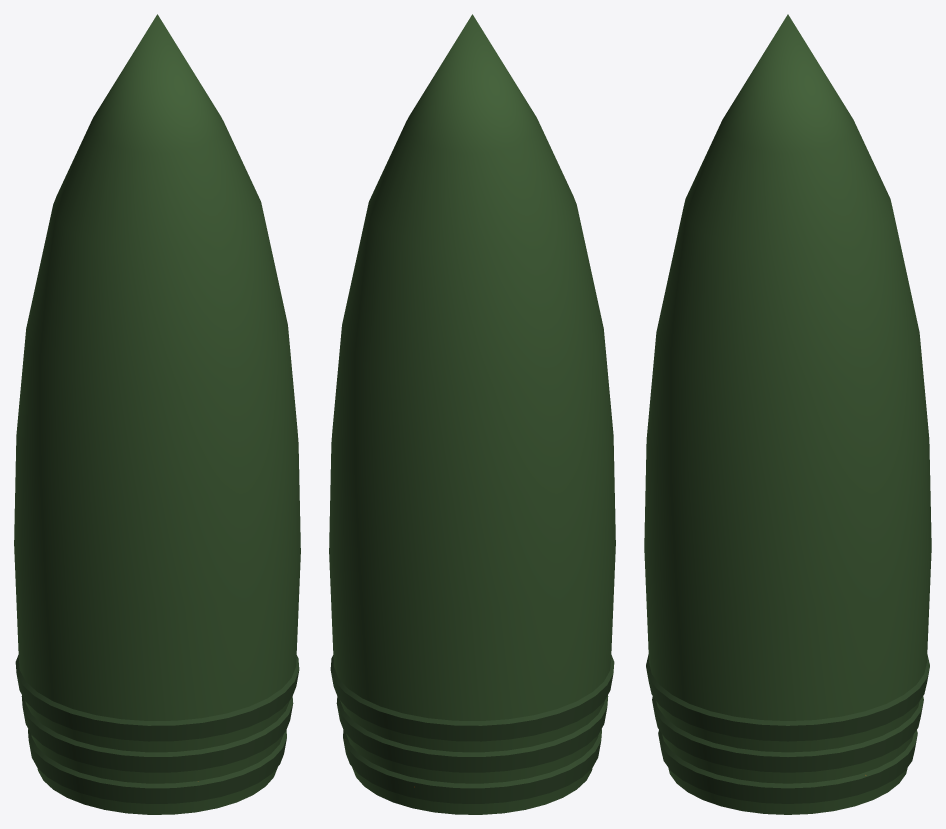
The model's file is projectile.fbx.
3 views of the same model, side by side, from view 1: azimuth 30°, elevation 25°; view 2: azimuth 150°, elevation 25°; view 3: azimuth 270°, elevation 25° (orthographic).
Parts seen in each view (by area): view 1: Cylinder; view 2: Cylinder; view 3: Cylinder.
Part boxes in pixels (x1,y1,x2,y2): Cylinder: (14,14,300,814); Cylinder: (329,14,615,814); Cylinder: (644,14,931,814).
Size of the model in its own units: 185 by 532 by 185.
1 material, 1 textured.
